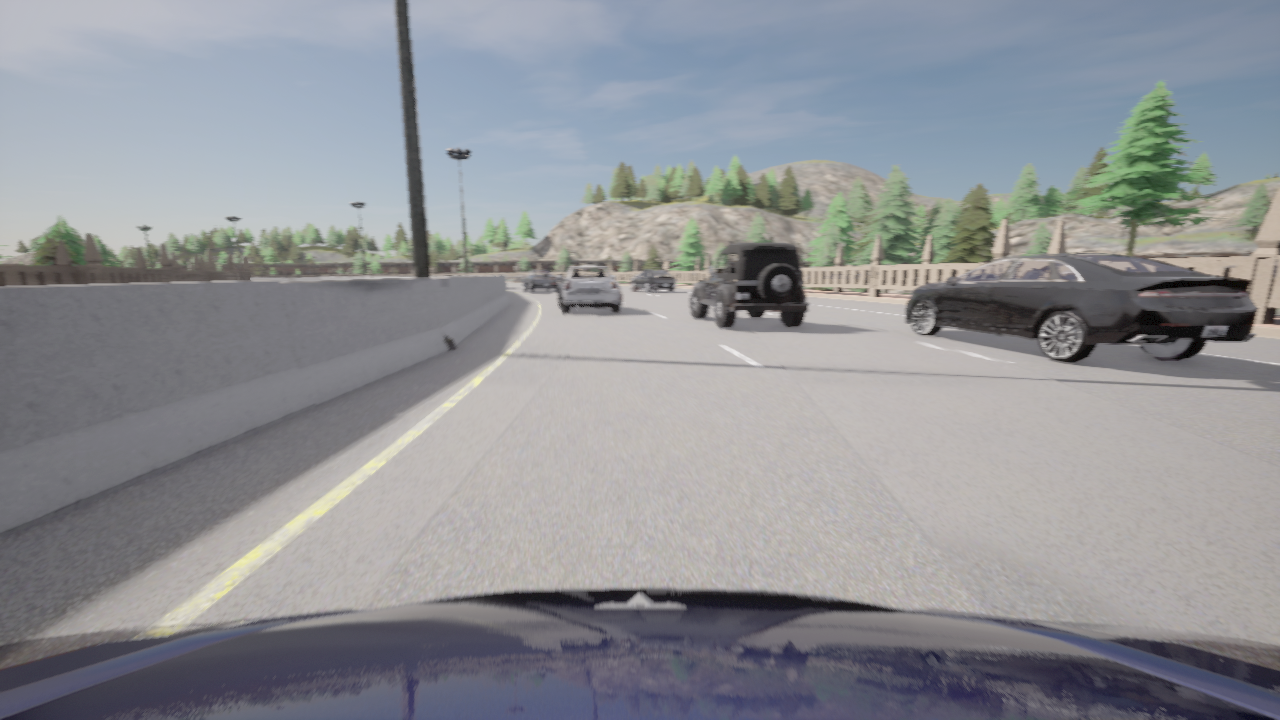cyclist: (0, 588, 1279, 719), (905, 253, 1256, 362), (690, 242, 808, 328), (557, 266, 620, 313), (630, 270, 674, 292), (523, 270, 557, 292)
